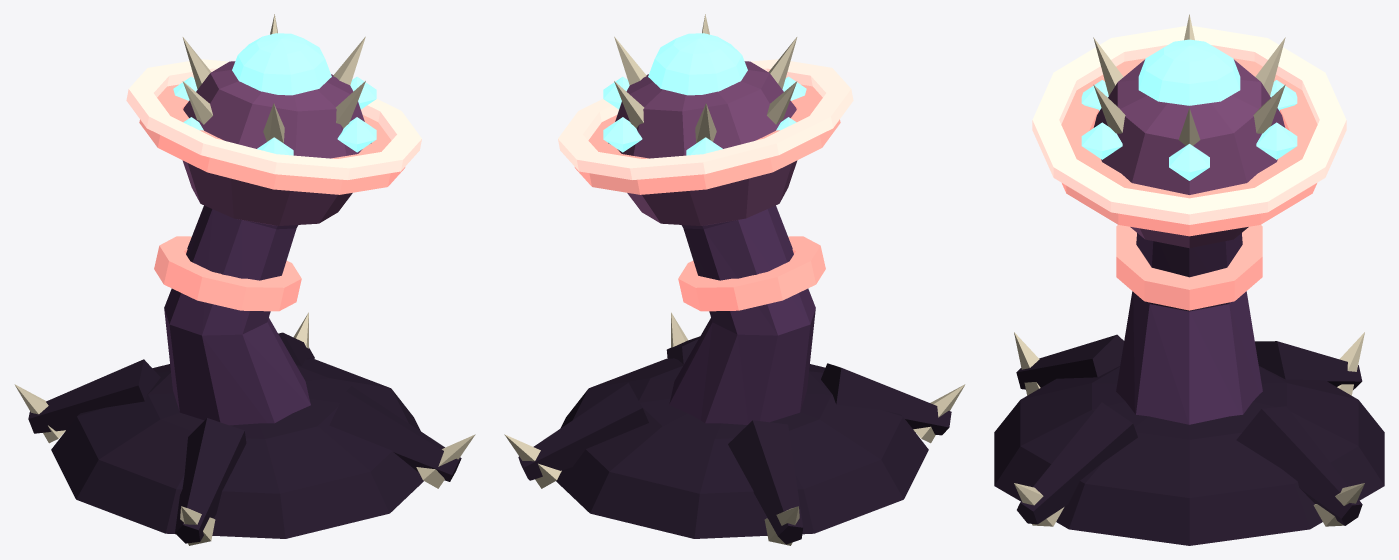
File: spore_watch.glb
The picture shows the model from 3 angles, left to right: view 1: azimuth 30°, elevation 25°; view 2: azimuth 150°, elevation 25°; view 3: azimuth 270°, elevation 25°; orthographic projection. The views are drawn at different scales.
Parts seen in each view (by area): view 1: Surf_dark, Surf_chit, Surf_warm, Surf_TEAM, Surf_GLOW, Surf_eye, Surf_bone; view 2: Surf_dark, Surf_chit, Surf_warm, Surf_TEAM, Surf_GLOW, Surf_eye, Surf_bone; view 3: Surf_dark, Surf_GLOW, Surf_chit, Surf_TEAM, Surf_warm, Surf_eye, Surf_bone.
Boxes of the visible parts, x1,y1,x2,y2 form: Surf_dark: [28, 332, 461, 543]; Surf_chit: [164, 205, 310, 425]; Surf_warm: [182, 61, 371, 225]; Surf_TEAM: [139, 84, 405, 311]; Surf_GLOW: [126, 59, 421, 179]; Surf_eye: [173, 33, 376, 155]; Surf_bone: [14, 14, 475, 545]; Surf_dark: [518, 336, 951, 544]; Surf_chit: [669, 205, 815, 424]; Surf_warm: [608, 61, 797, 225]; Surf_TEAM: [574, 84, 840, 311]; Surf_GLOW: [558, 59, 853, 179]; Surf_eye: [603, 33, 806, 155]; Surf_bone: [504, 14, 965, 545]; Surf_dark: [994, 334, 1384, 545]; Surf_GLOW: [1032, 26, 1346, 224]; Surf_chit: [1116, 233, 1262, 424]; Surf_TEAM: [1061, 58, 1317, 310]; Surf_warm: [1093, 59, 1285, 248]; Surf_eye: [1081, 39, 1297, 180]; Surf_bone: [1014, 14, 1364, 526].
Bounding box in the file's own units: 2.77 × 3.26 × 2.64.
